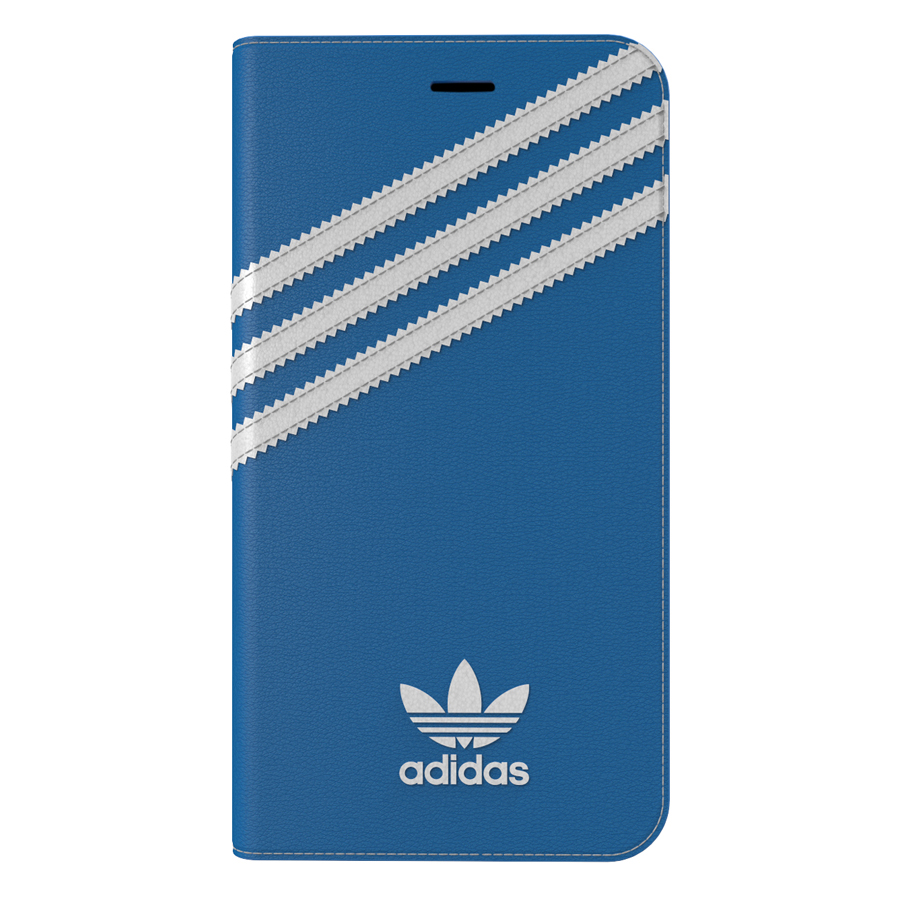Adidas: (387, 655, 547, 790)
